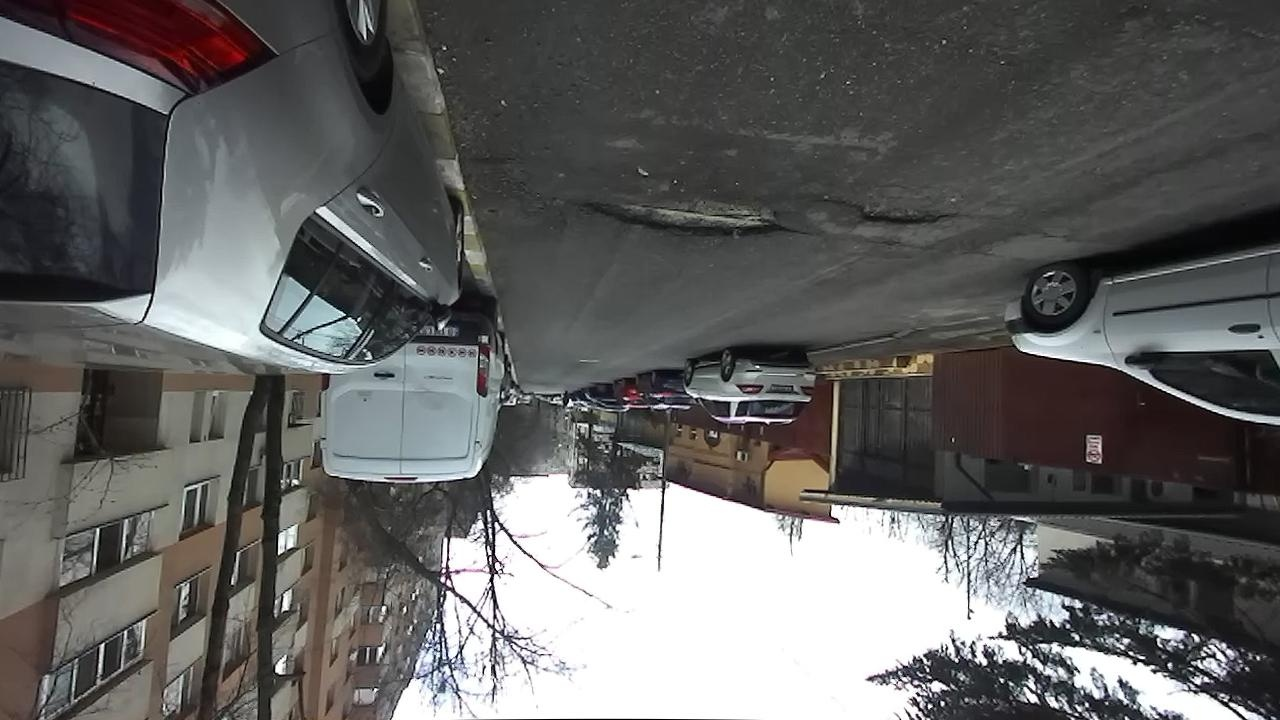pothole: (568, 182, 813, 241), (817, 191, 956, 229)
